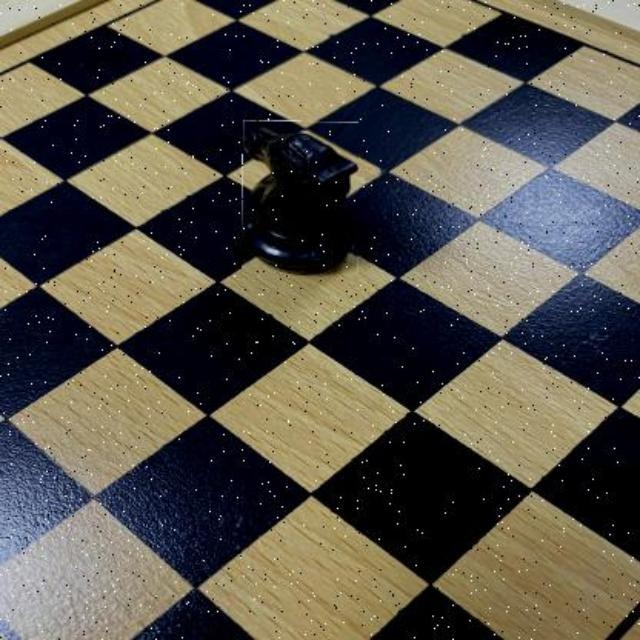black-knight: (244, 122, 360, 274)
